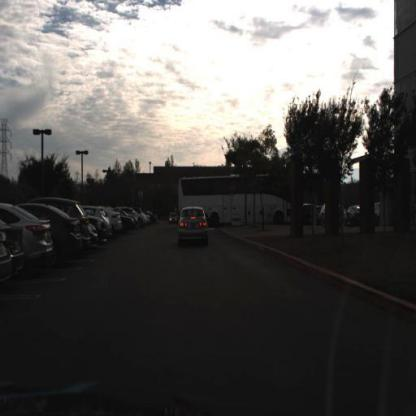car: (1, 202, 52, 260), (32, 204, 86, 257), (19, 210, 57, 263), (176, 205, 210, 252), (55, 208, 83, 256), (82, 201, 93, 258), (106, 207, 122, 236), (344, 203, 364, 224), (100, 212, 108, 249), (90, 222, 100, 247)
truck: (178, 172, 296, 230), (178, 170, 291, 217)
